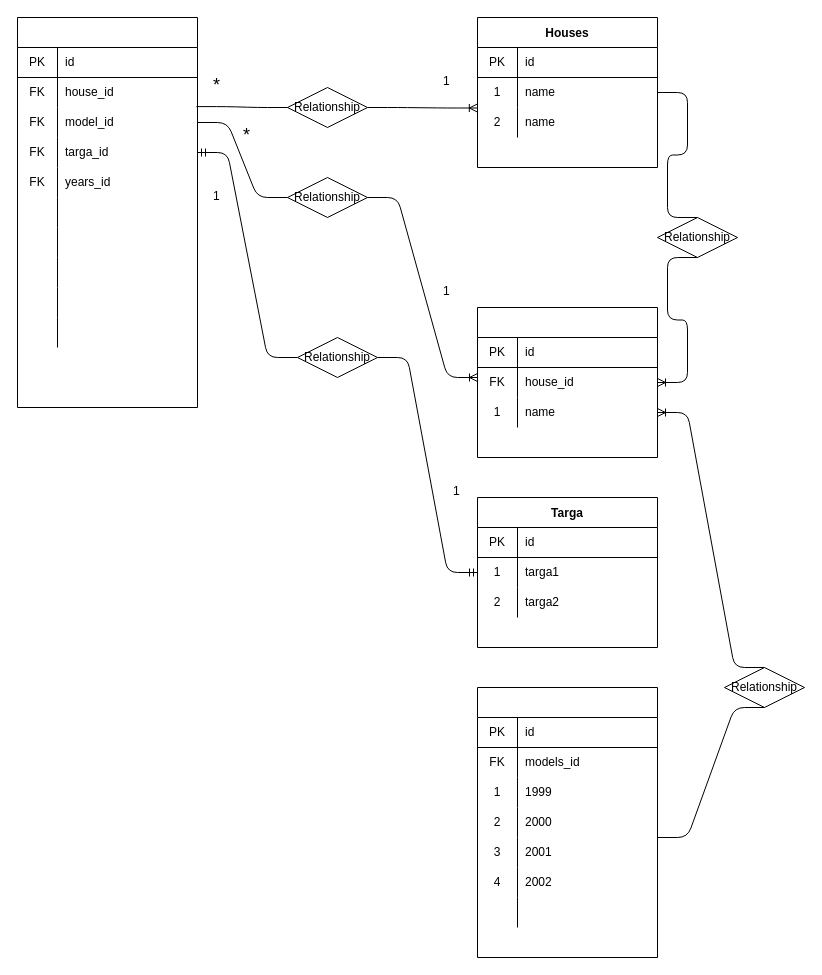
This 822x975 diagram has some shape labels left out. Here are the shapes that lost their labels. From the top down, the box of each, then its label:
(16, 16, 198, 408): Cars
(476, 306, 658, 458): Models
(476, 686, 658, 958): Years
